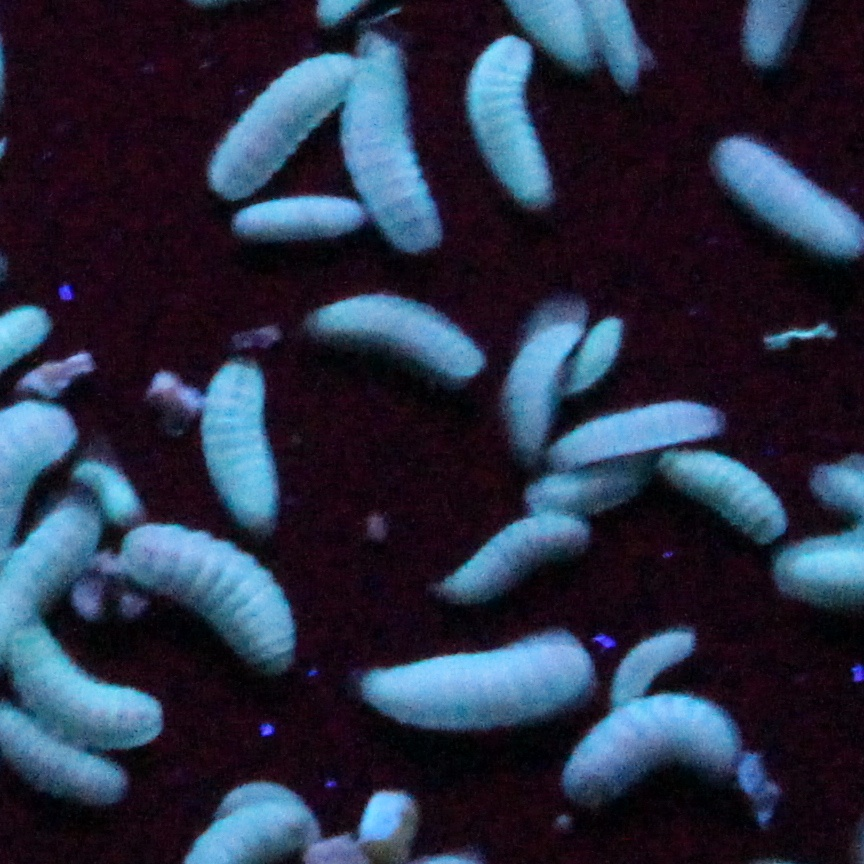larve: (119, 519, 306, 666), (344, 31, 444, 256), (383, 627, 601, 730), (215, 44, 366, 188), (553, 688, 737, 802), (18, 630, 152, 748), (667, 429, 795, 544), (193, 355, 272, 535), (326, 284, 475, 372), (445, 500, 589, 589), (473, 36, 540, 206), (542, 402, 708, 462), (506, 319, 578, 449), (221, 194, 365, 248), (596, 632, 691, 712), (535, 456, 652, 511), (564, 307, 629, 393), (77, 457, 141, 527)
